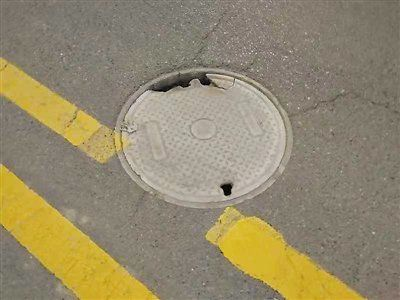broke: (105, 59, 299, 214)
